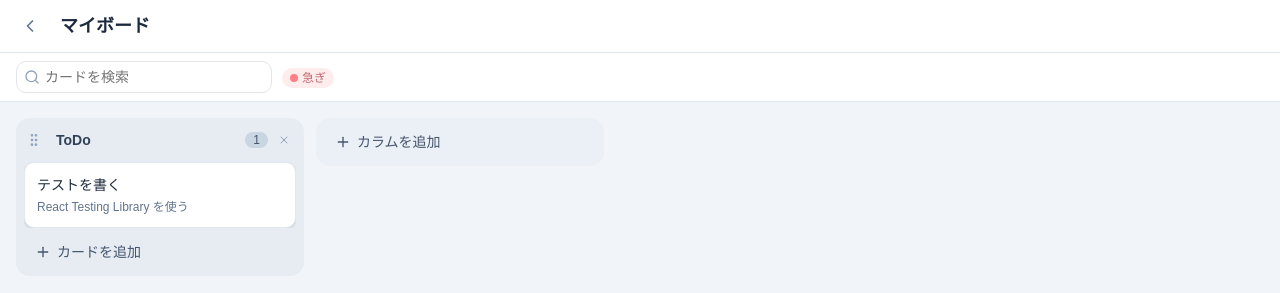
Test case: ボード › ボード名をクリックして名前を変えられる
Click the button "マイボード": (105,26) [52,8,1264,44]
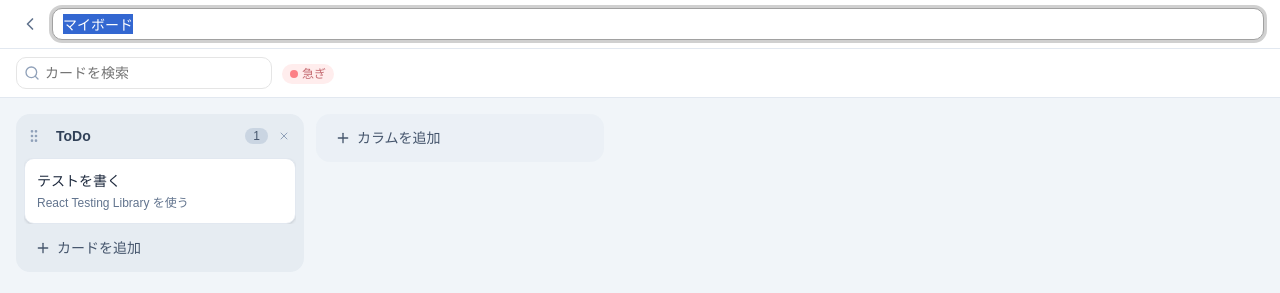
Replace the text in the field named "ボード名" with "新しい名前": (658,24) [52,8,1264,40]
Then press Enter
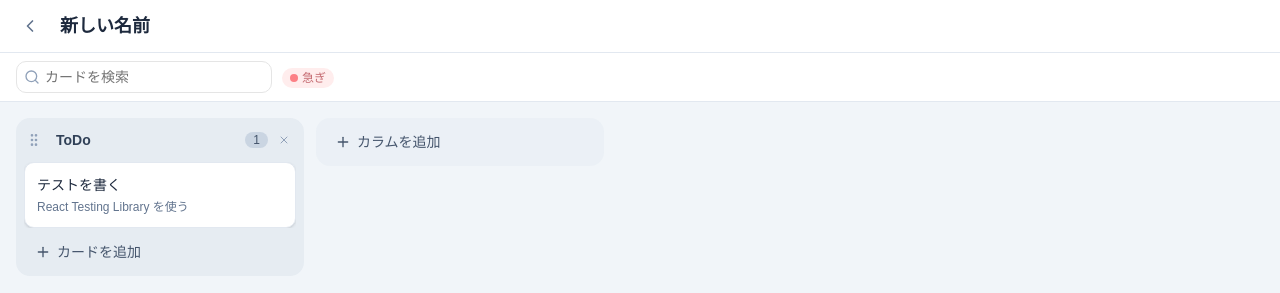
expect the button "新しい名前" is shown: met, box [52,8,1264,44]
